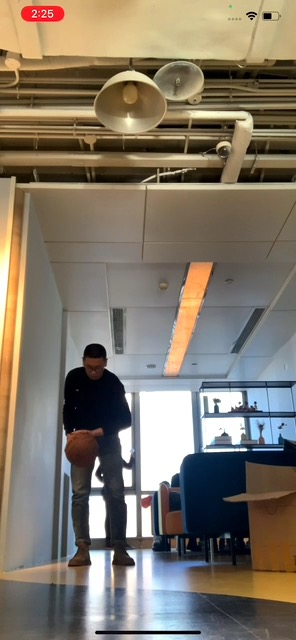ball: (66, 430, 99, 467)
